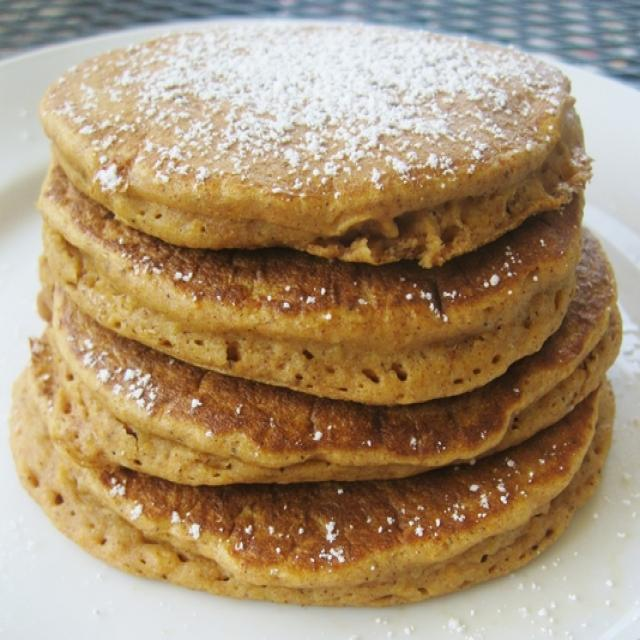蛋糕甜品: (6, 18, 623, 626)
